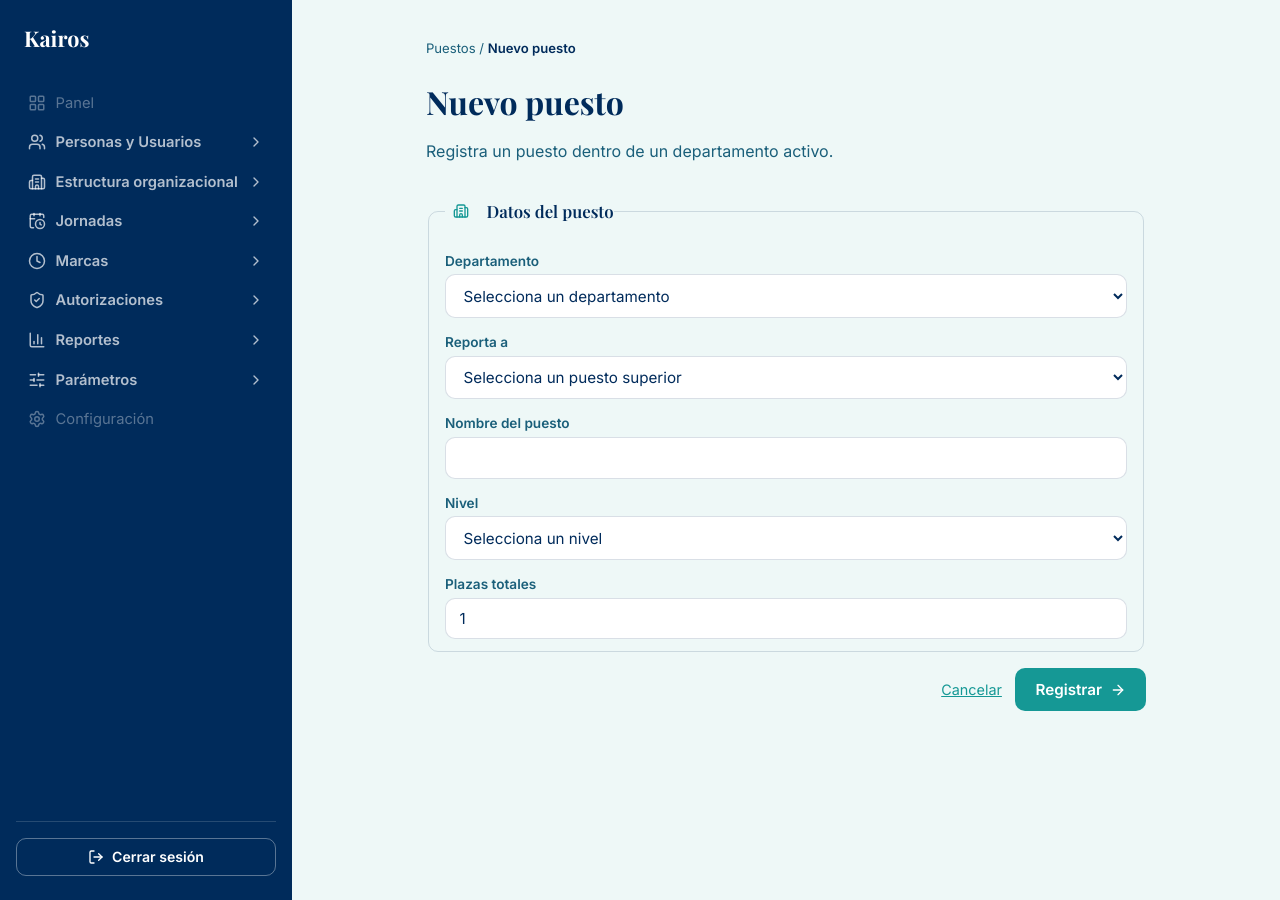
it: AltaPuestoPage › muestra el detail real del backend cuando el departamento o el superior son inválidos (422)
Select "Ventas" in the dropdown labelled "Departamento" at [786, 296], box [445,274,1127,318]
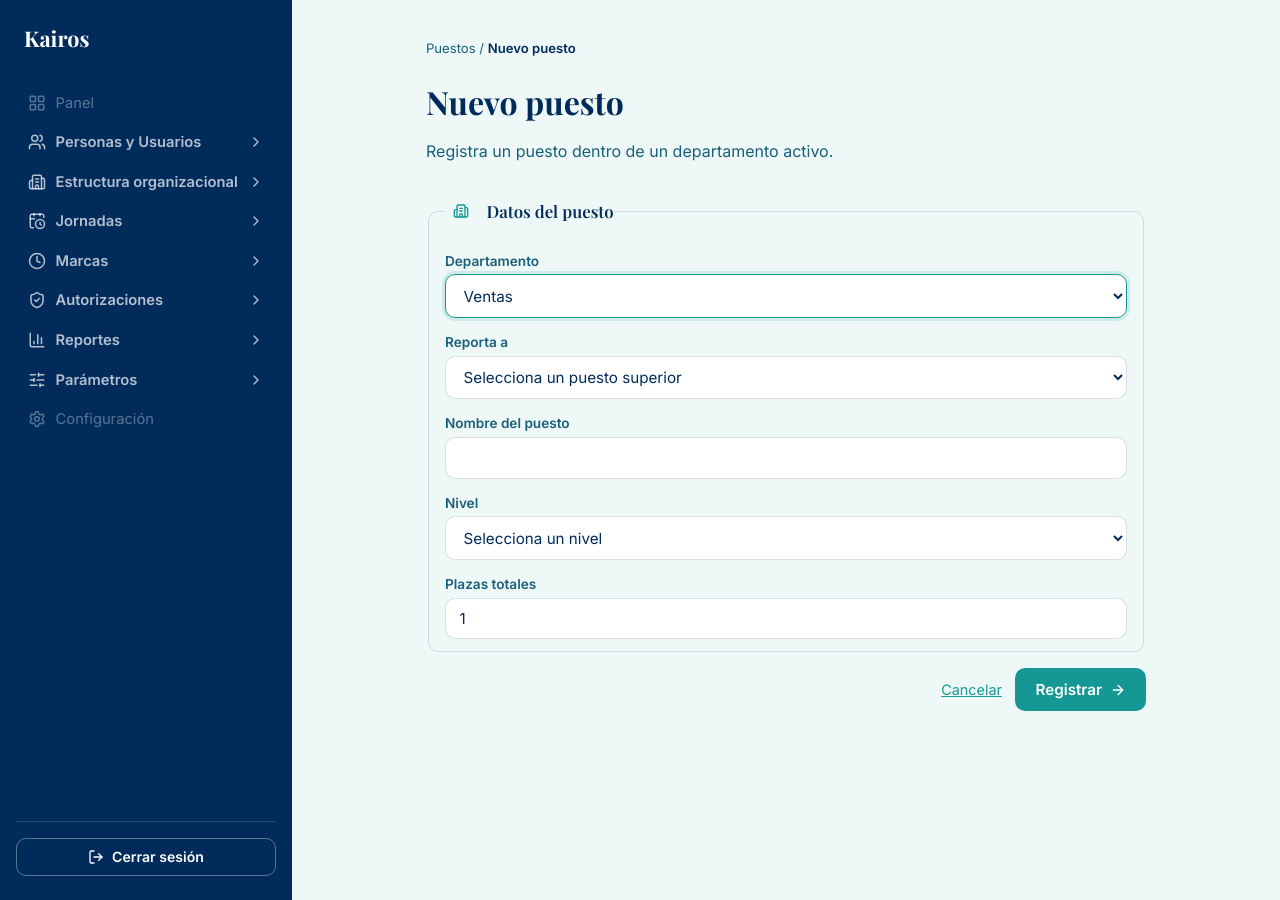
Select "Director Comercial" in the dropdown labelled "Reporta a" at [786, 378], box [445,356,1127,399]
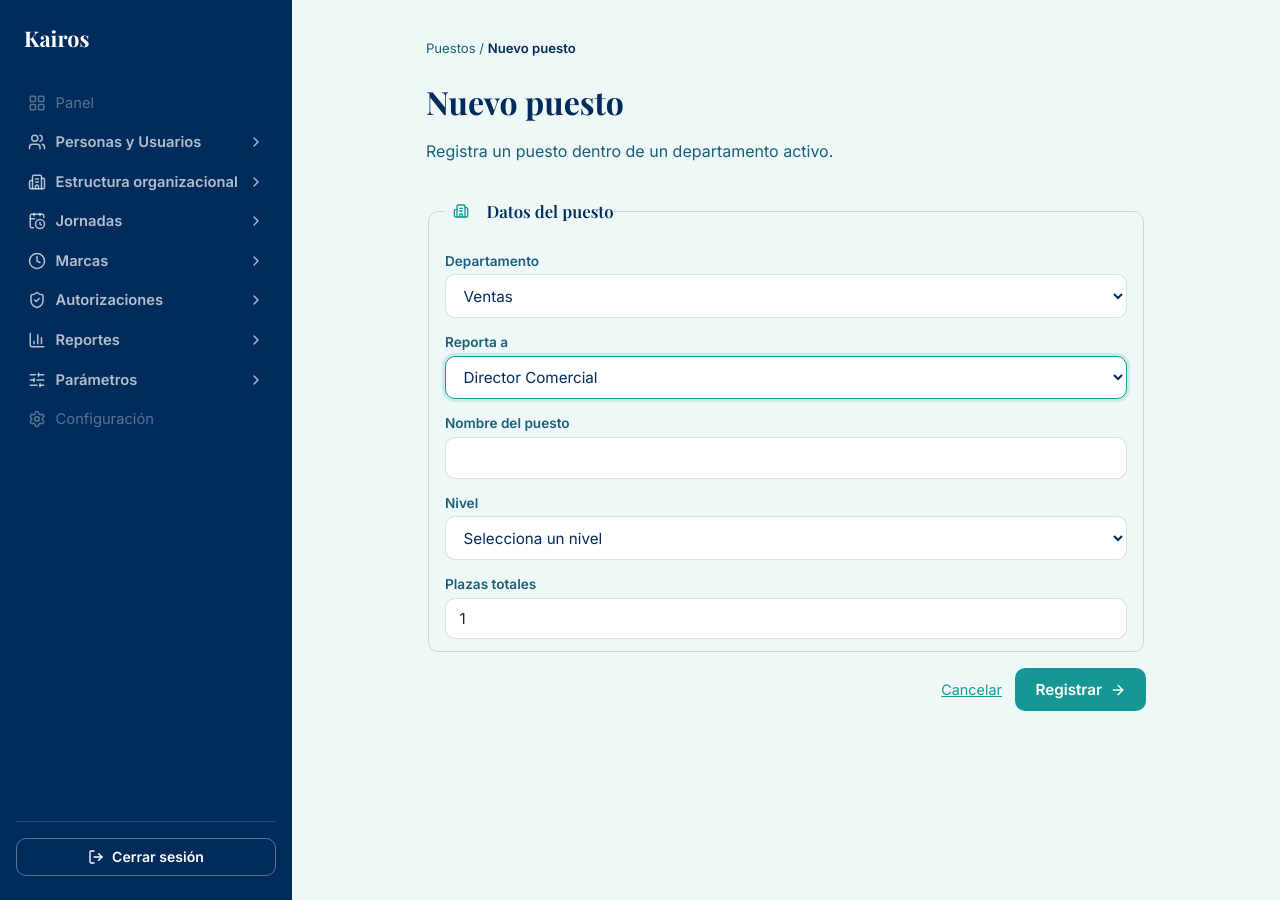
Type "Ejecutivo de Ventas" into the field labelled "Nombre del puesto".
click(786, 458); type("Ejecutivo de Ventas")  # box [445,437,1127,479]
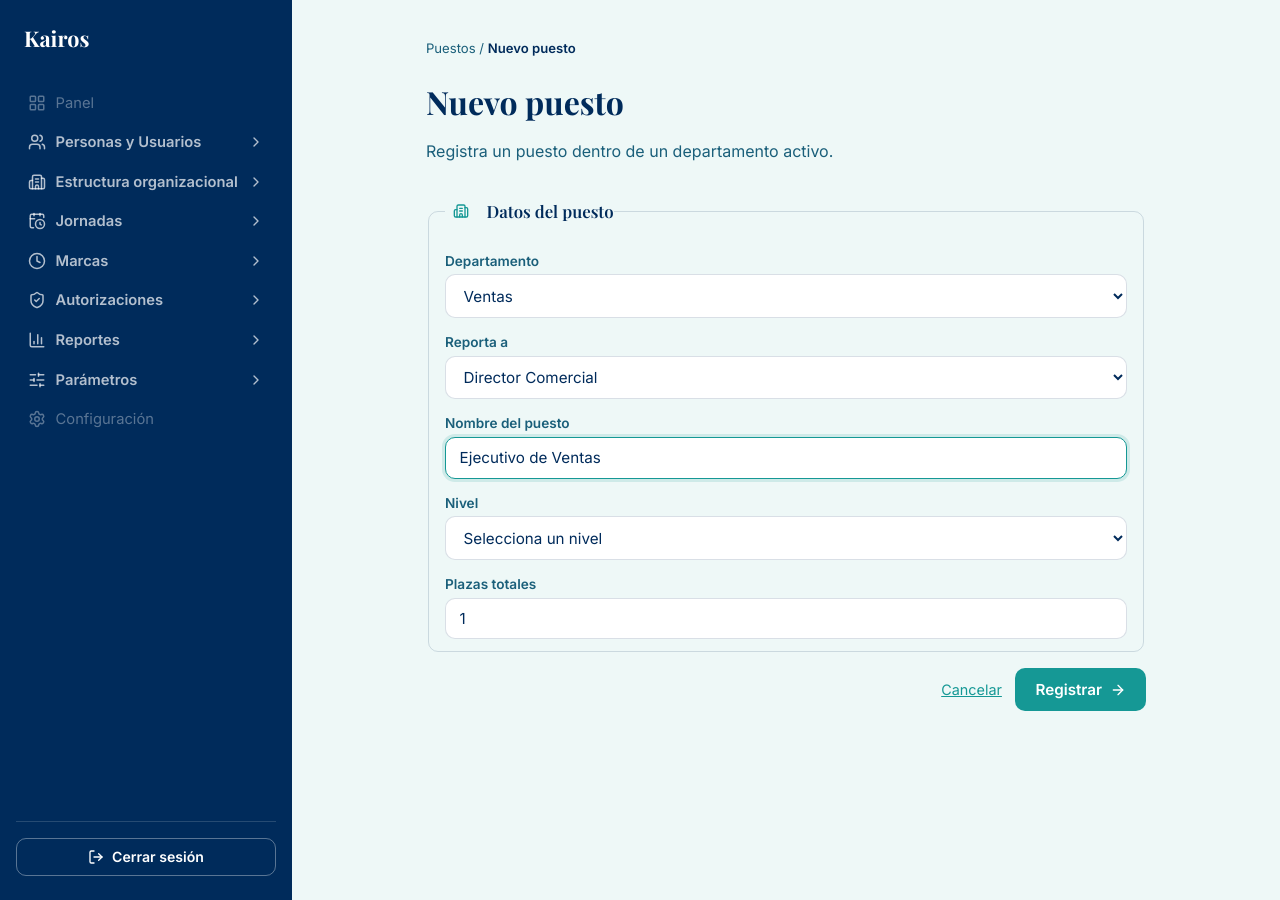
Select "Operativo" in the dropdown labelled "Nivel" at [786, 538], box [445,516,1127,560]
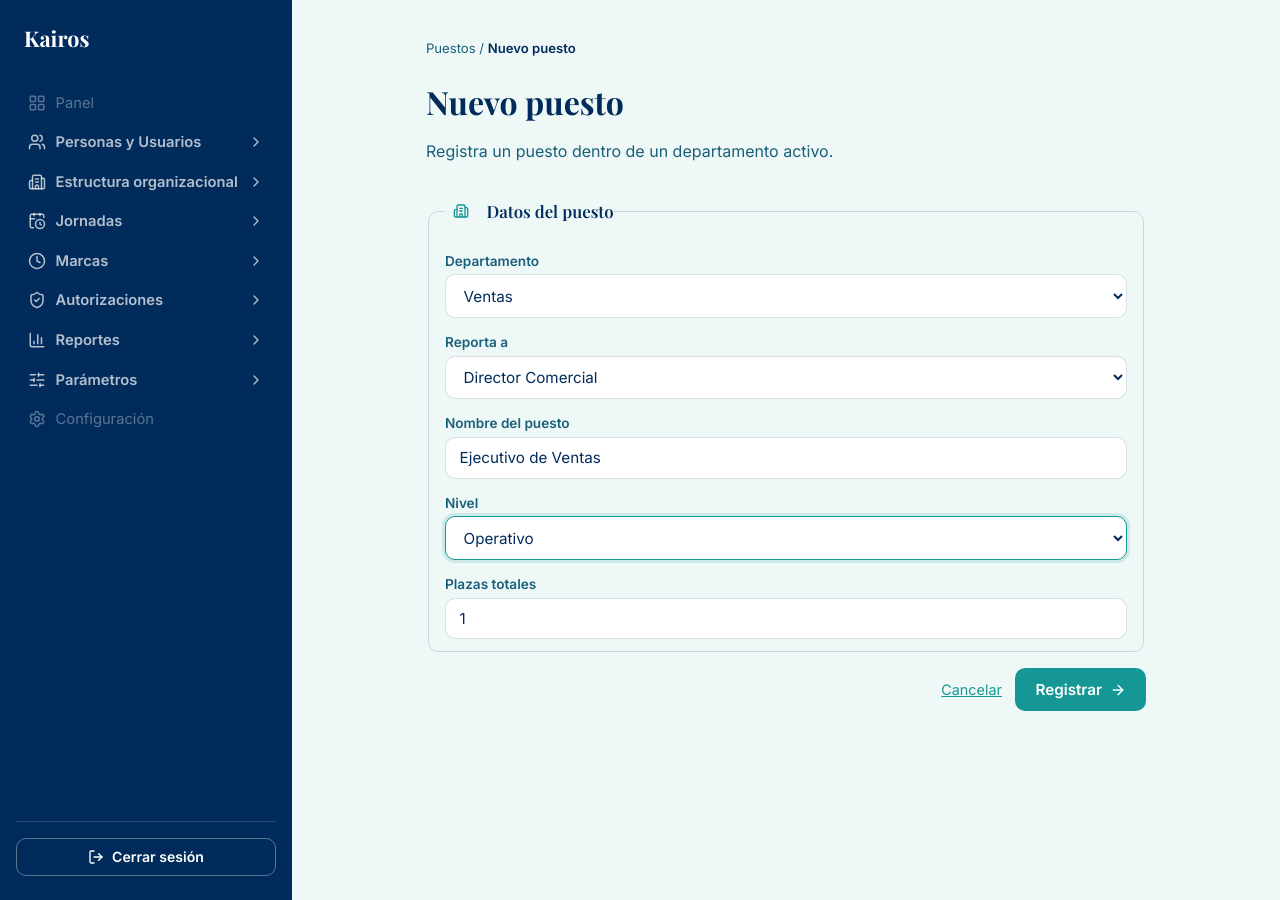
Click the button "Registrar".
click(1081, 690)  # box [1016,668,1146,712]
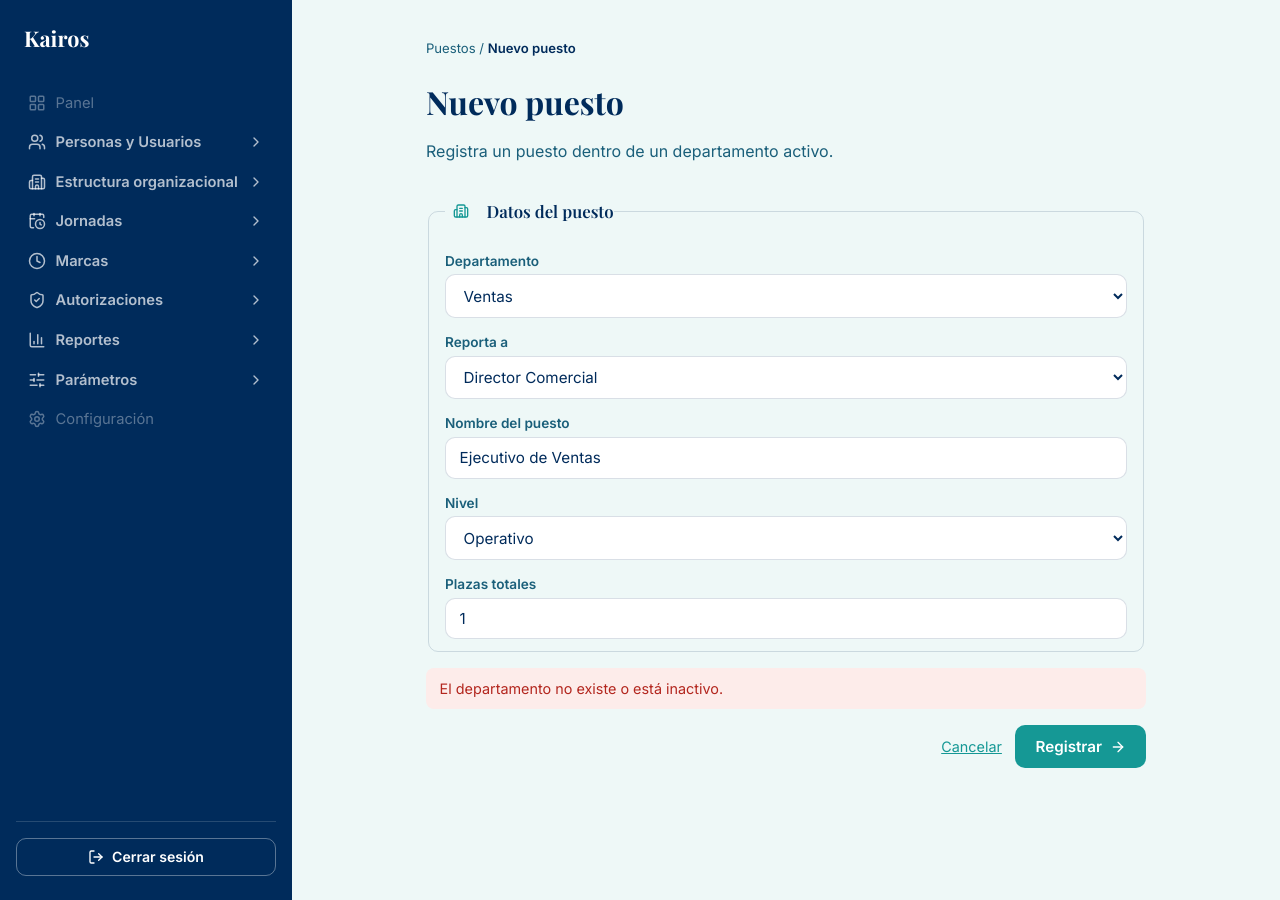
Expected: the text "El departamento no existe o está inactivo." is shown, [426,668,1146,709]
